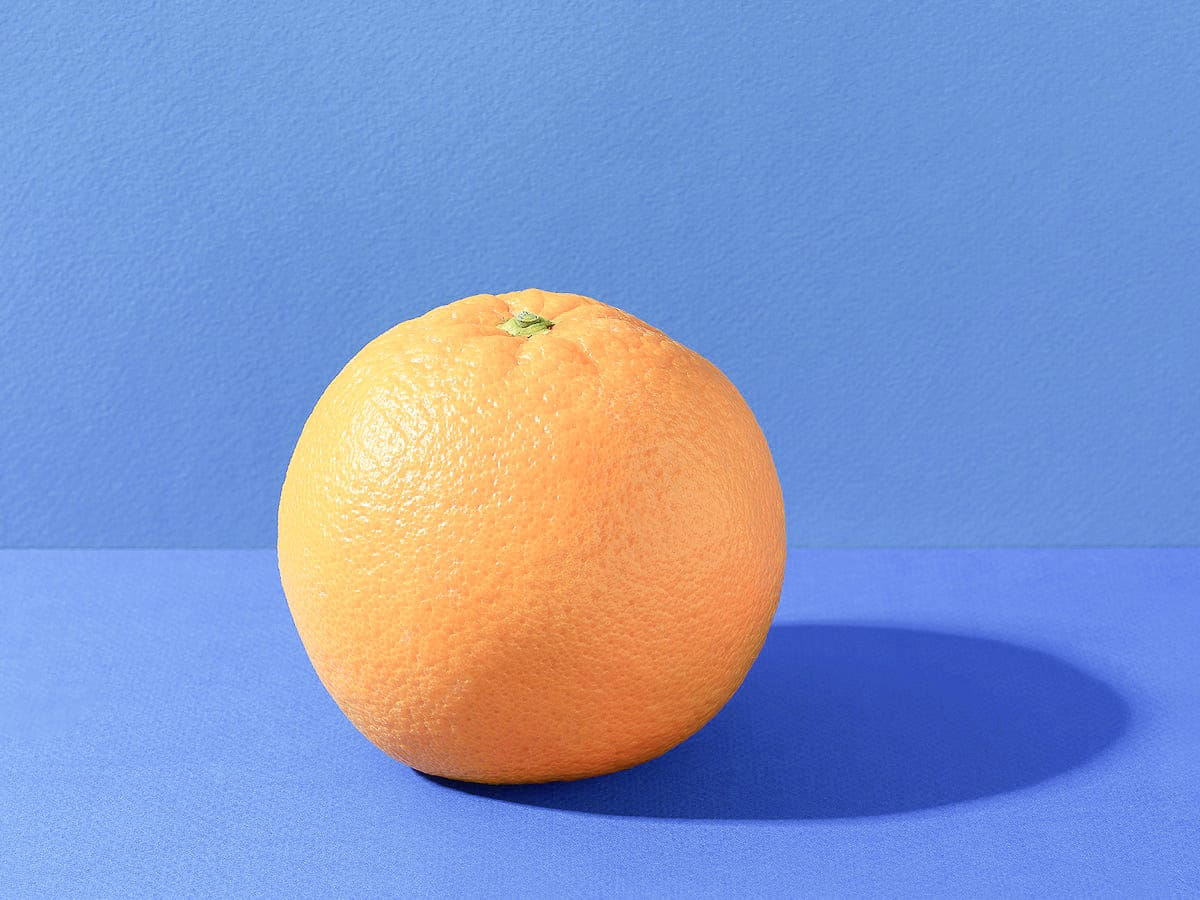Good Orange: (269, 256, 787, 787)
